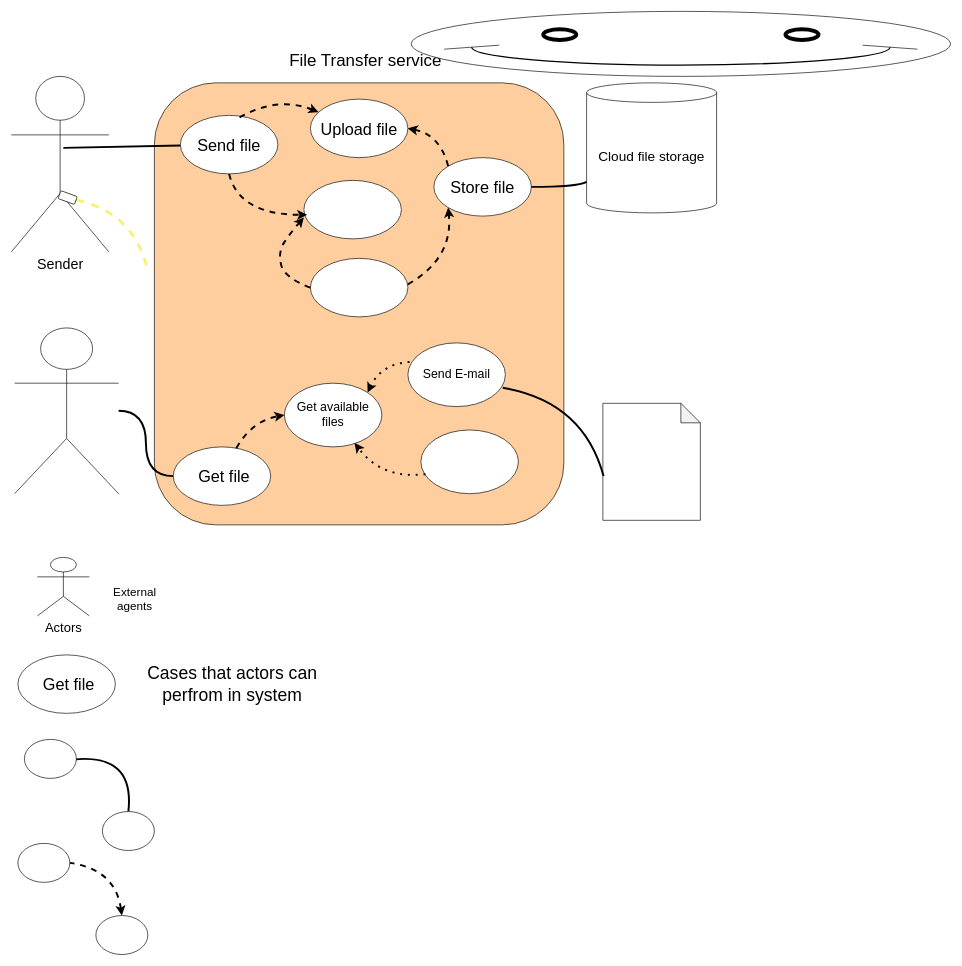
The diagram is 962 pixels wide and 966 high, and some of its shapes have lost their labels. Here are the shapes that lost their labels. From the top down, the centre of each, then its label:
the point at 352,209: Specify Recepient
the point at 359,287: Save file recepient
the point at 66,410: Recepient
the point at 469,461: Get file list
the point at 651,461: E-mail
